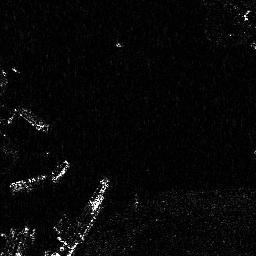ship: (83, 178, 109, 215), (14, 107, 53, 130), (51, 159, 72, 182)
